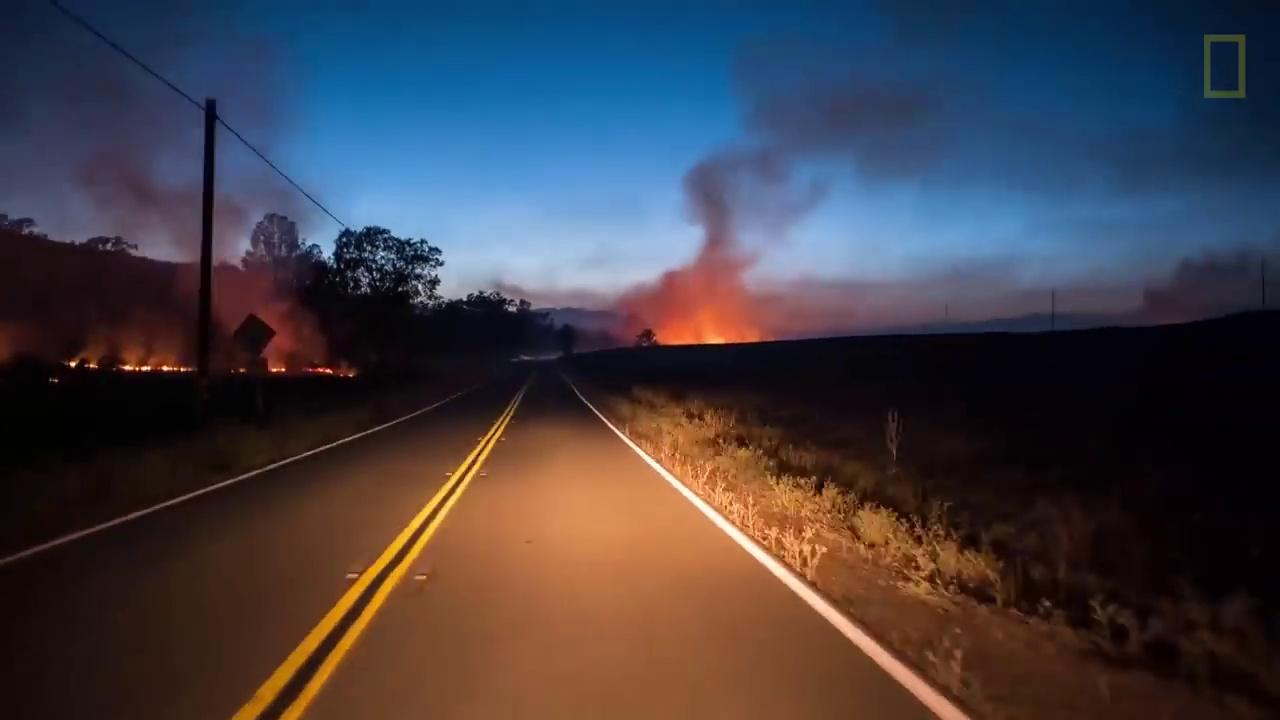Fire: (664, 331, 773, 346), (122, 364, 196, 376), (303, 364, 337, 376), (269, 365, 287, 373), (87, 363, 99, 372), (67, 360, 79, 369)
